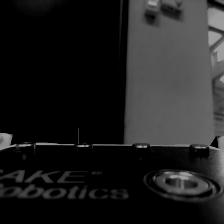Door Handle: (78, 128, 115, 144)
